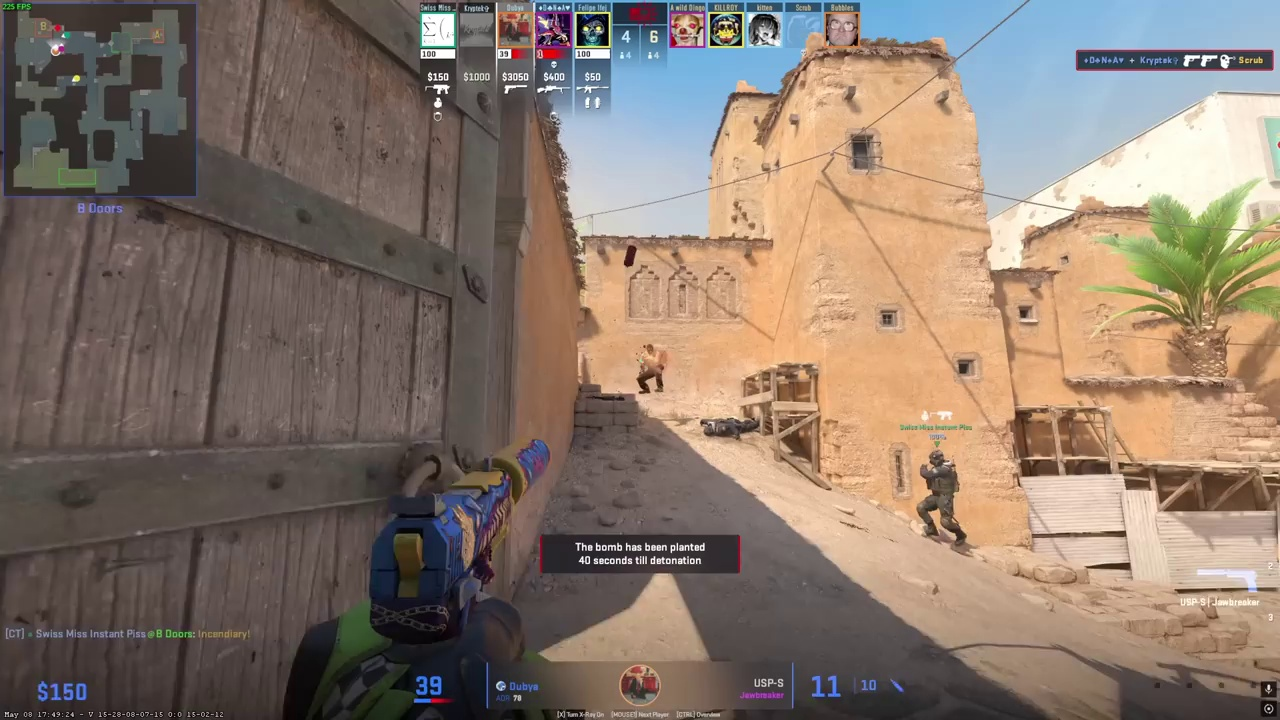CT: (917, 449, 967, 547)
Terrorist: (636, 344, 662, 394)
